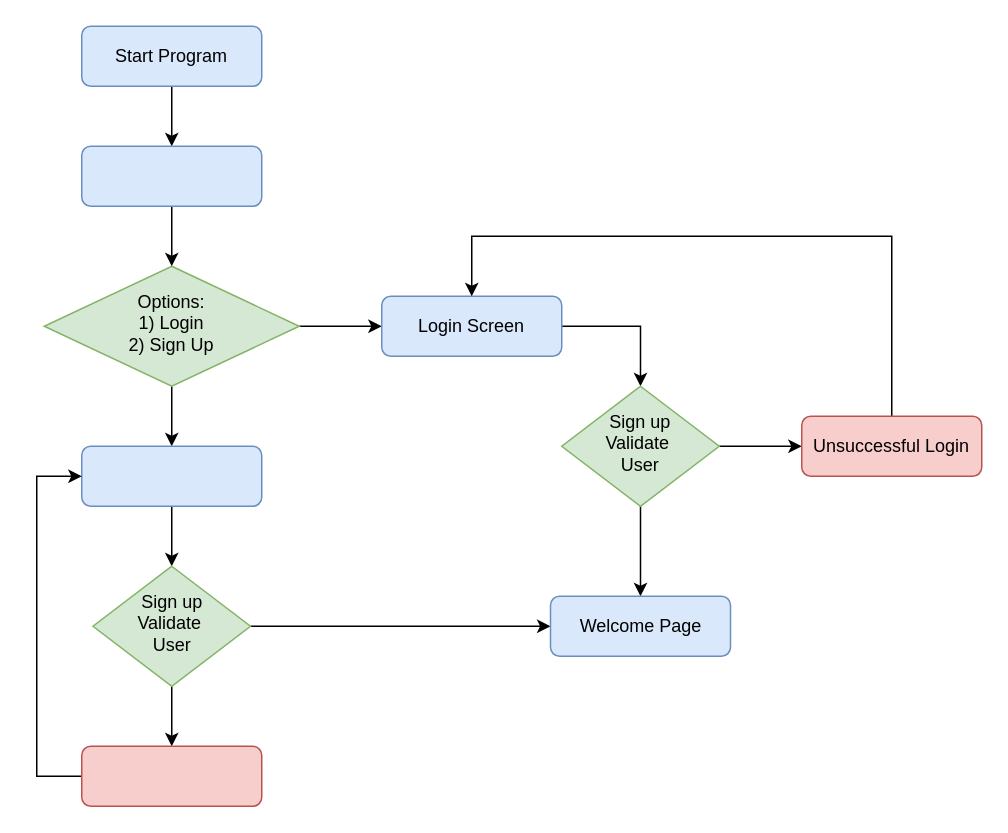
Some shapes in this 1008 by 833 pixel diagram are drawn without their labels. Each missing label, with the box of its shape:
Sign Up Screen: (80, 445, 262, 506)
Unsuccessful Sign up: (80, 745, 262, 806)
Welcome Screen: (80, 145, 262, 206)
